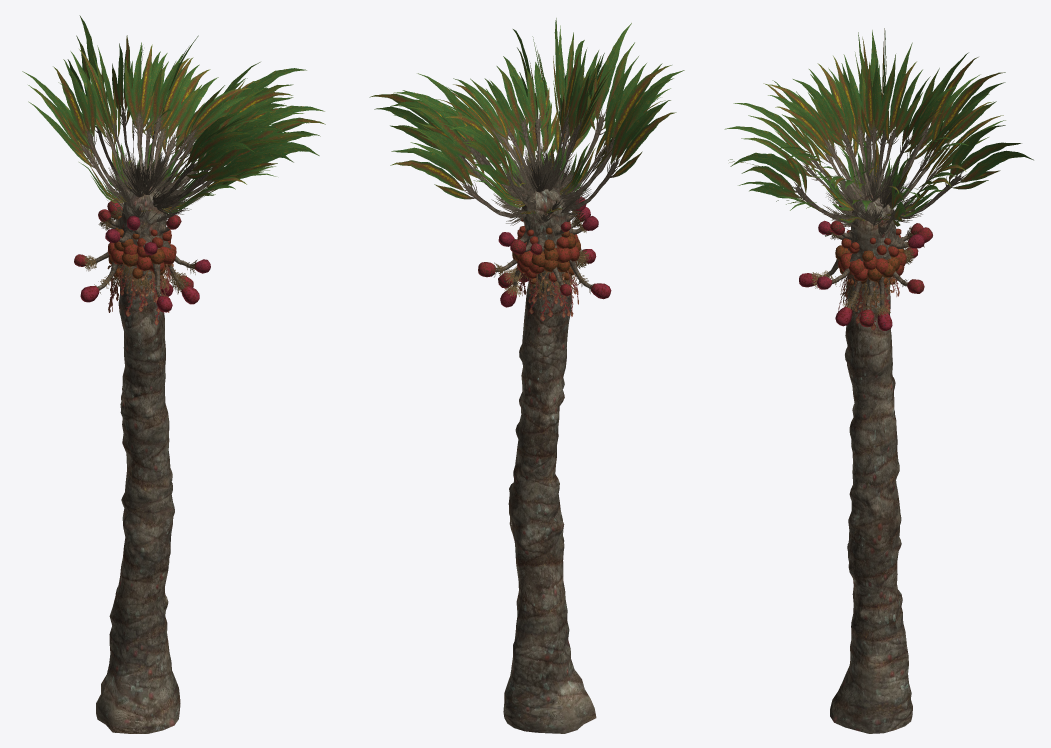
Rendered from Tree - Alien Tree 06 1-DpGFaqvo.glb.
The picture shows the model from 3 angles, left to right: view 1: azimuth 30°, elevation 25°; view 2: azimuth 150°, elevation 25°; view 3: azimuth 270°, elevation 25°; orthographic projection.
Visible parts, largest first — view 1: Tree6_1(Clone); view 2: Tree6_1(Clone); view 3: Tree6_1(Clone).
Part boxes in pixels (x1,y1,x2,y2): Tree6_1(Clone): (22, 15, 325, 733); Tree6_1(Clone): (369, 18, 684, 733); Tree6_1(Clone): (724, 28, 1033, 733).
Bounding box in the file's own units: 6.71 × 14.18 × 6.26.
3 materials, 3 textured.
